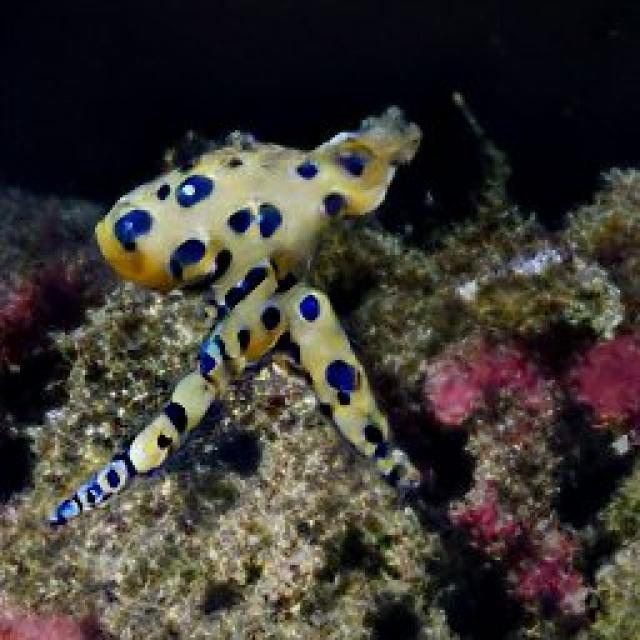blue_ringed_octopus: (48, 93, 420, 525)
